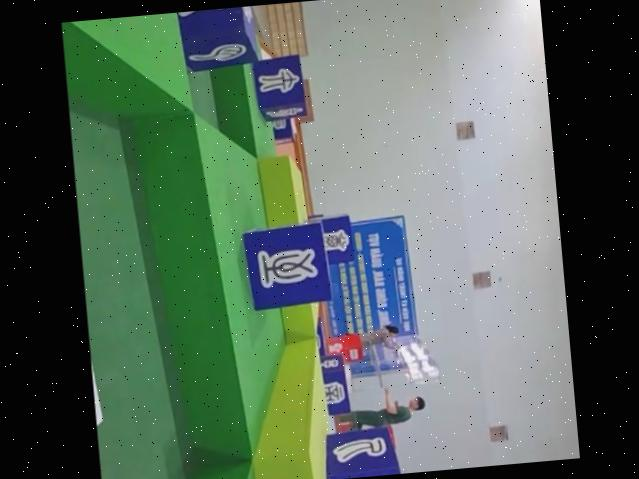R2 Fake Blue: (238, 218, 330, 309), (167, 5, 256, 70), (317, 425, 399, 479), (249, 51, 305, 118), (314, 210, 355, 262), (318, 350, 350, 413)
